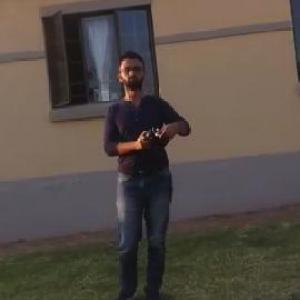follow: (96, 48, 196, 299)
